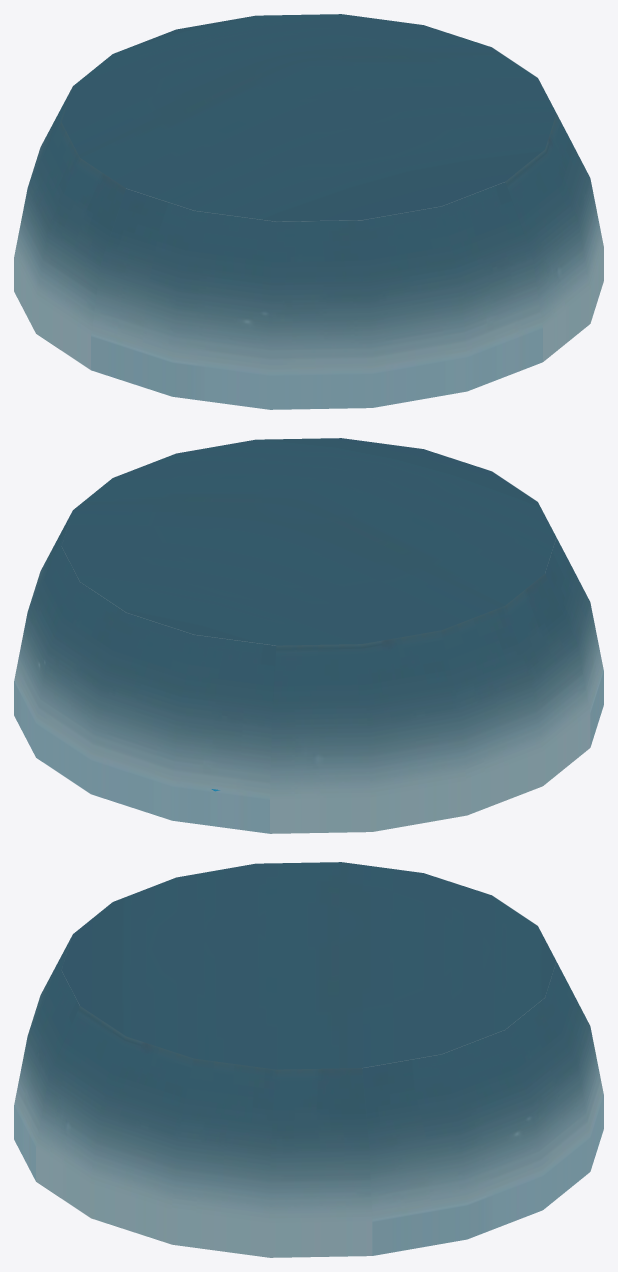
File: track.glb
3 renders of one model, top to bottom at view 1: azimuth 30°, elevation 25°; view 2: azimuth 150°, elevation 25°; view 3: azimuth 270°, elevation 25°, orthographic.
Parts seen in each view (by area): view 1: sky:E_Huanghe02_Sky_01; view 2: sky:E_Huanghe02_Sky_01; view 3: sky:E_Huanghe02_Sky_01.
Boxes of the visible parts, x1,y1,x2,y2 form: sky:E_Huanghe02_Sky_01: [14, 14, 603, 409]; sky:E_Huanghe02_Sky_01: [14, 438, 603, 833]; sky:E_Huanghe02_Sky_01: [14, 862, 603, 1257].
Bounding box in the file's own units: 7672 × 3246 × 7732.
56 materials, 56 textured.
